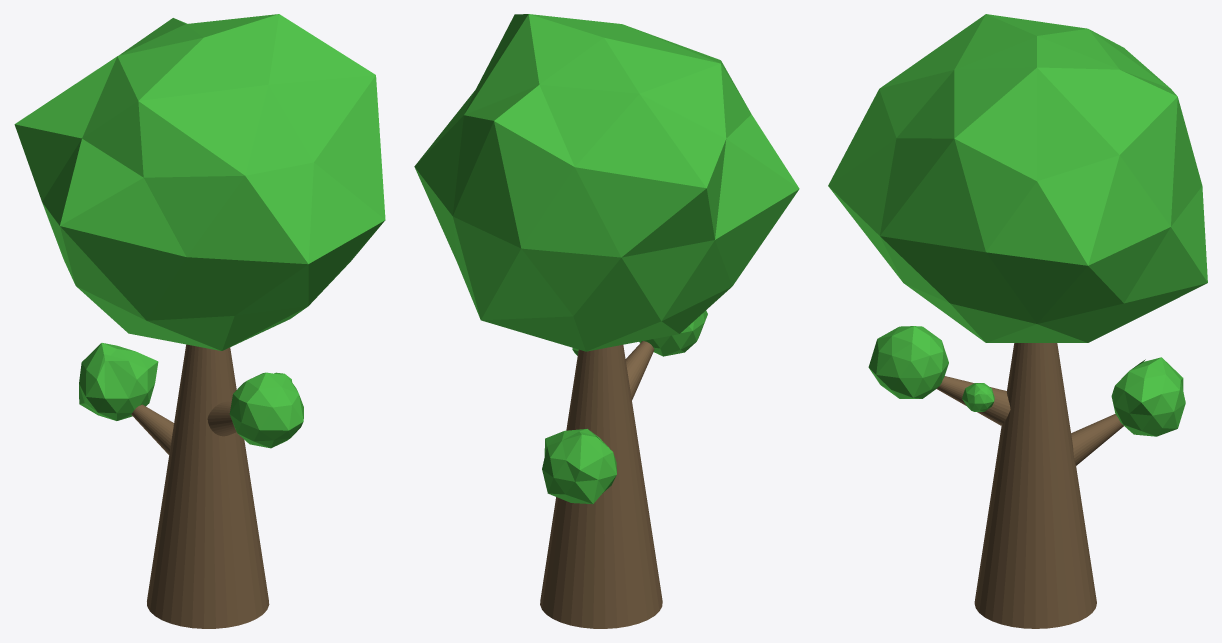
The model's file is cartoonTree.fbx.
The picture shows the model from 3 angles, left to right: view 1: azimuth 30°, elevation 25°; view 2: azimuth 150°, elevation 25°; view 3: azimuth 270°, elevation 25°; orthographic projection.
Visible parts, largest first — view 1: Icosphere, Tree, Icosphere.003, Icosphere.001, Cylinder.003, Cylinder.001; view 2: Icosphere, Tree, Icosphere.003, Icosphere.001, Cylinder.001; view 3: Icosphere, Tree, Icosphere.001, Icosphere.003, Cylinder.003, Cylinder.001, Icosphere.002.
Part boxes in pixels (left/top/right/bottom): Icosphere: left=14, top=14, right=385, bottom=350; Tree: left=147, top=344, right=269, bottom=628; Icosphere.003: left=79, top=343, right=158, bottom=420; Icosphere.001: left=229, top=372, right=303, bottom=448; Cylinder.003: left=131, top=404, right=173, bottom=454; Cylinder.001: left=207, top=401, right=236, bottom=436; Icosphere: left=414, top=14, right=799, bottom=351; Tree: left=540, top=345, right=662, bottom=628; Icosphere.003: left=542, top=429, right=616, bottom=504; Icosphere.001: left=639, top=310, right=707, bottom=356; Cylinder.001: left=625, top=341, right=654, bottom=399; Icosphere: left=828, top=14, right=1207, bottom=342; Tree: left=974, top=343, right=1096, bottom=628; Icosphere.001: left=868, top=326, right=948, bottom=398; Icosphere.003: left=1111, top=357, right=1185, bottom=436; Cylinder.003: left=1071, top=414, right=1123, bottom=465; Cylinder.001: left=937, top=376, right=1010, bottom=425; Icosphere.002: left=962, top=383, right=994, bottom=411.
Bounding box in the file's own units: 356 × 583 × 352.
